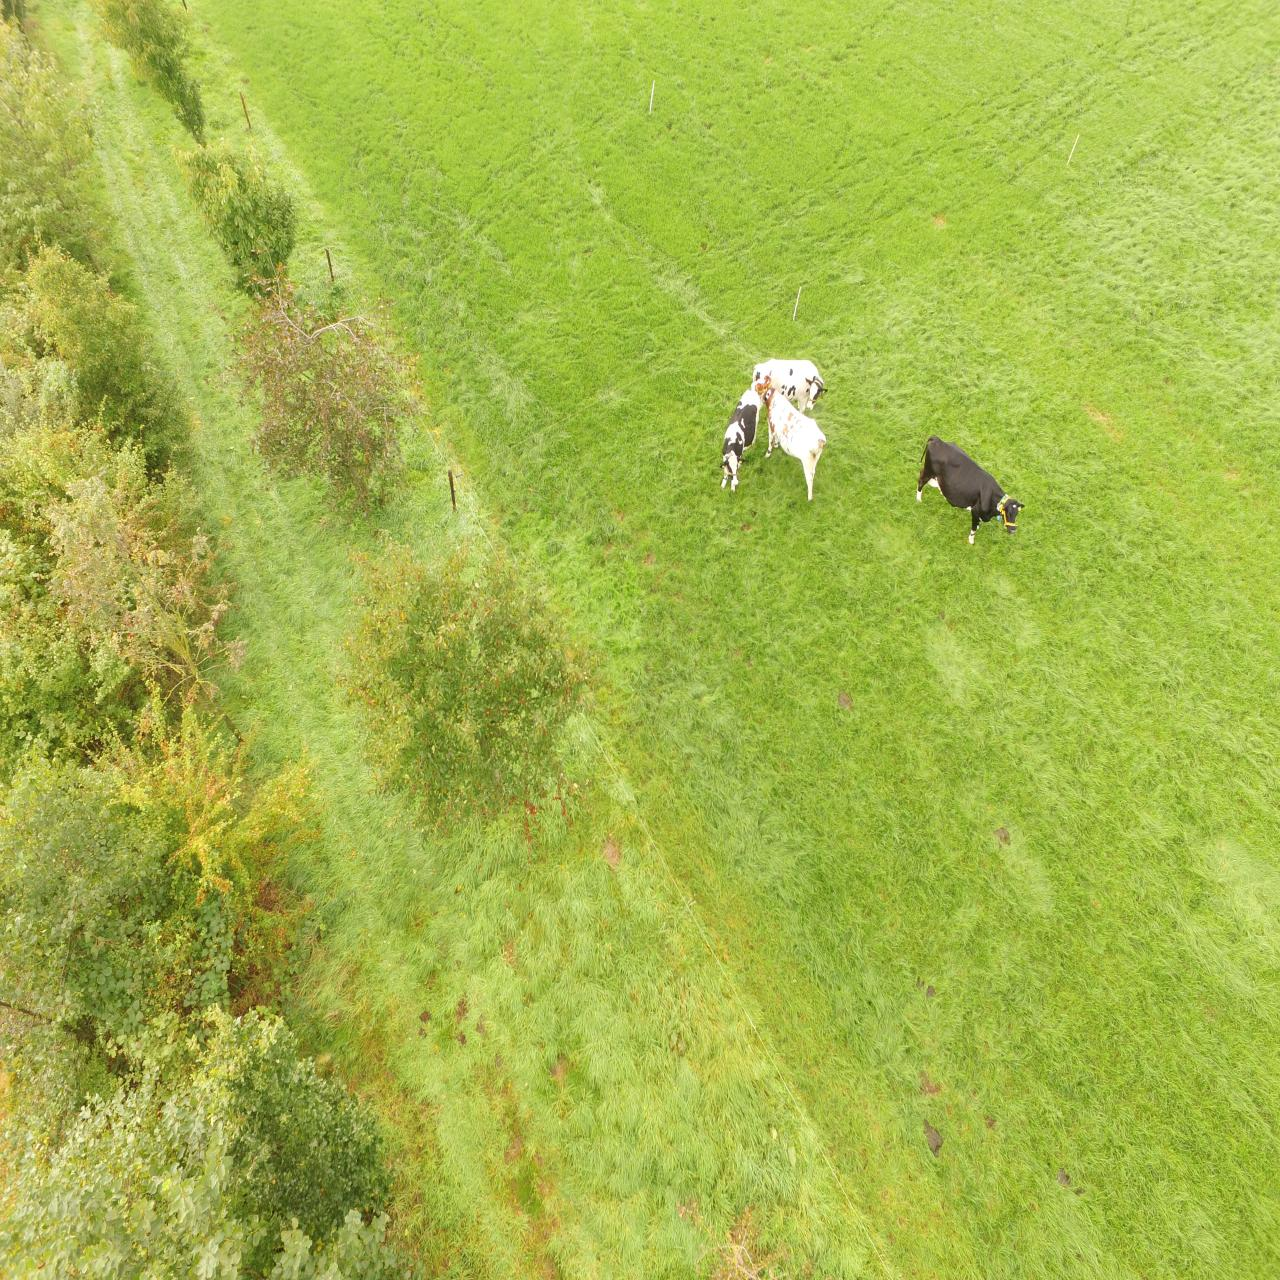cow: (917, 435, 1024, 545), (753, 375, 826, 502), (751, 359, 826, 416), (721, 384, 761, 492)
